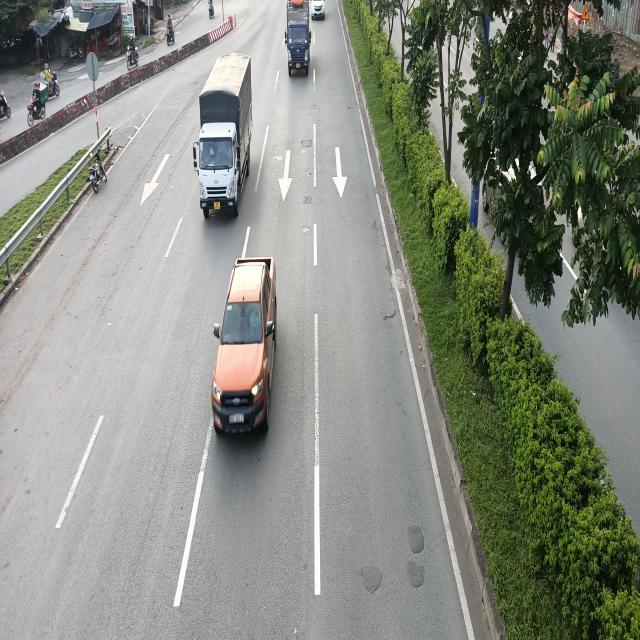car: (211, 256, 280, 436)
truck: (193, 55, 254, 220), (284, 1, 312, 80)
